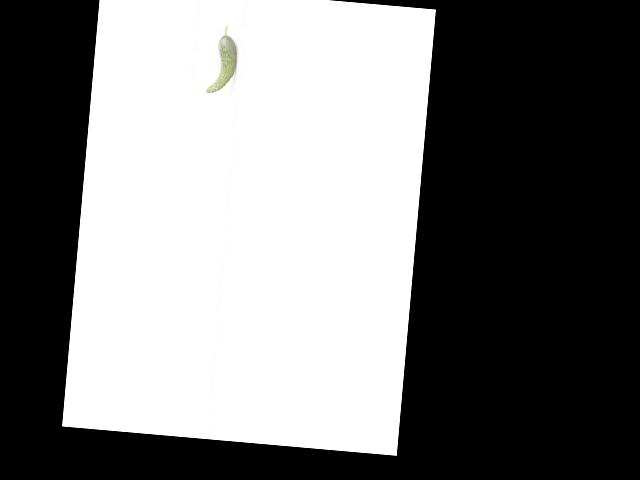cucumber: (206, 24, 239, 94)
